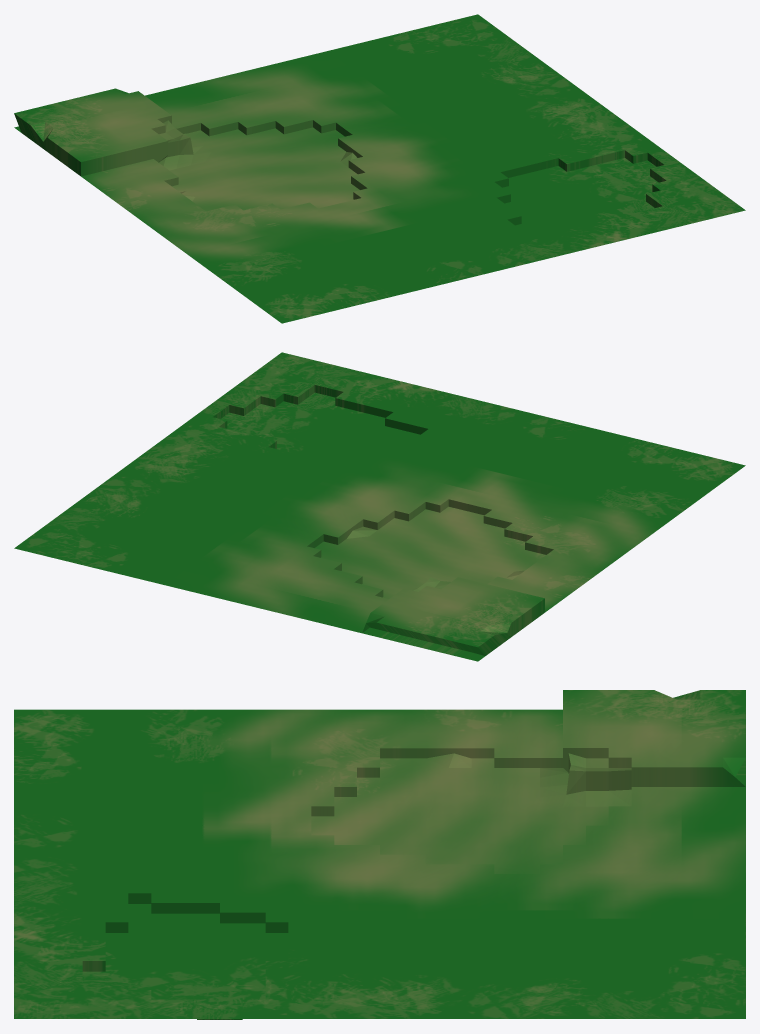
The model's file is Floor.fbx.
The picture shows the model from 3 angles, top to bottom: view 1: azimuth 30°, elevation 25°; view 2: azimuth 150°, elevation 25°; view 3: azimuth 270°, elevation 25°; orthographic projection. The views are drawn at different scales.
Visible parts, largest first — view 1: pPlane1; view 2: pPlane1; view 3: pPlane1.
Part boxes in pixels (x1,y1,x2,y2): pPlane1: [14, 14, 745, 323]; pPlane1: [14, 352, 745, 661]; pPlane1: [14, 690, 745, 1019].
Bounding box in the file's own units: 32 × 1.45 × 32.
1 material, 1 textured.
